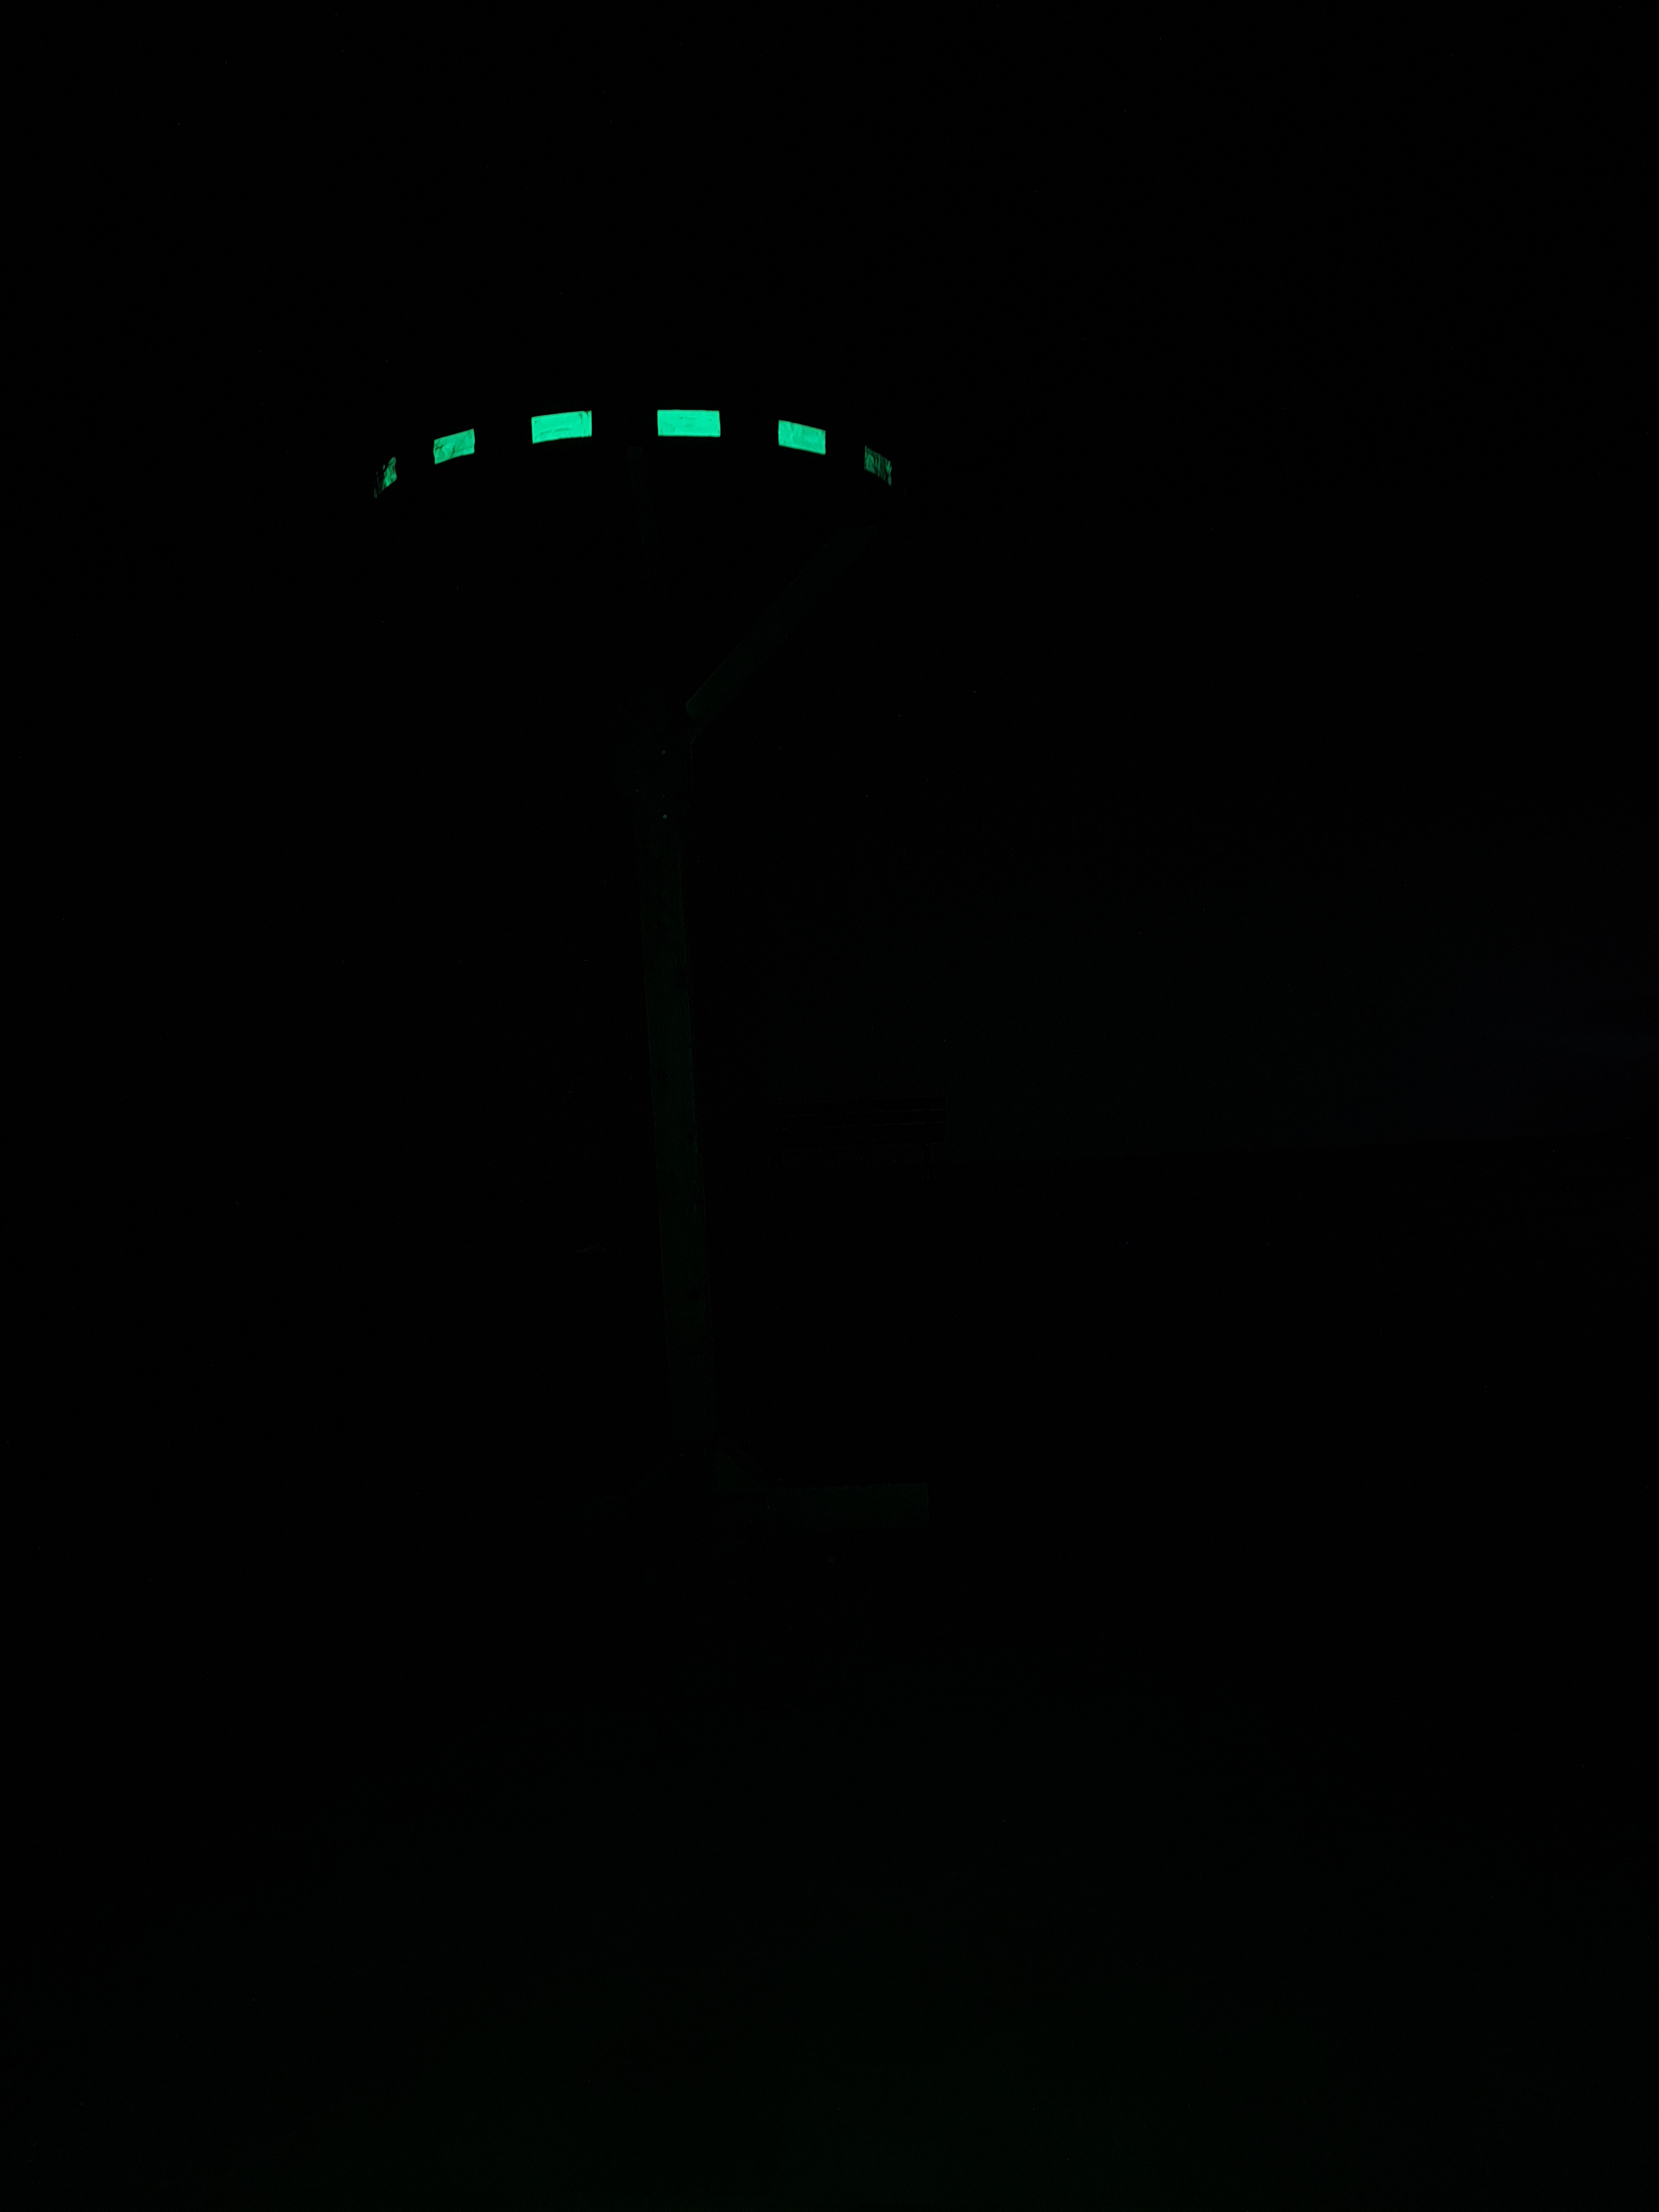hoop: (364, 399, 901, 514)
